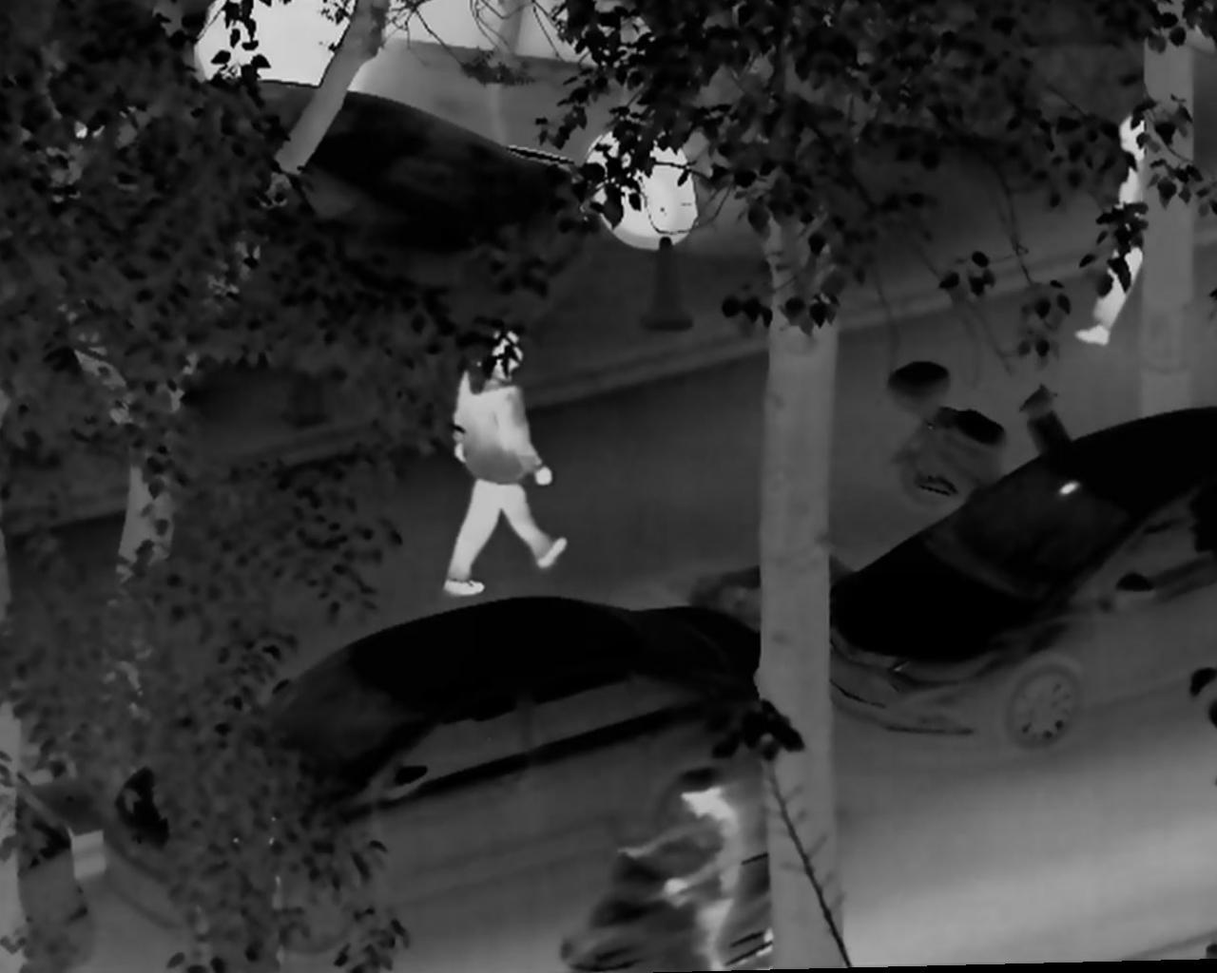person: (426, 332, 570, 600), (619, 759, 741, 973), (1072, 106, 1154, 353)
